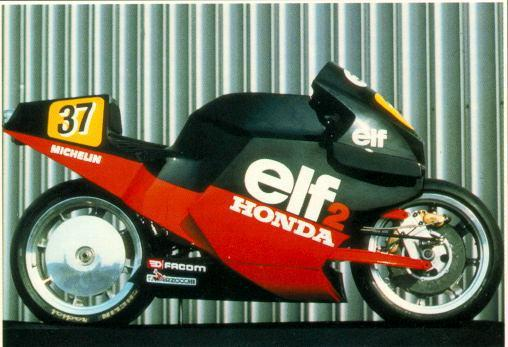motorcycle: (3, 43, 508, 337)
